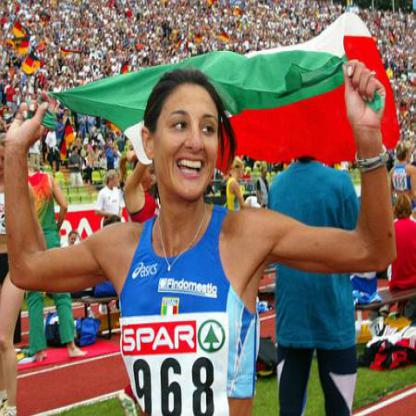face: (153, 73, 224, 202)
